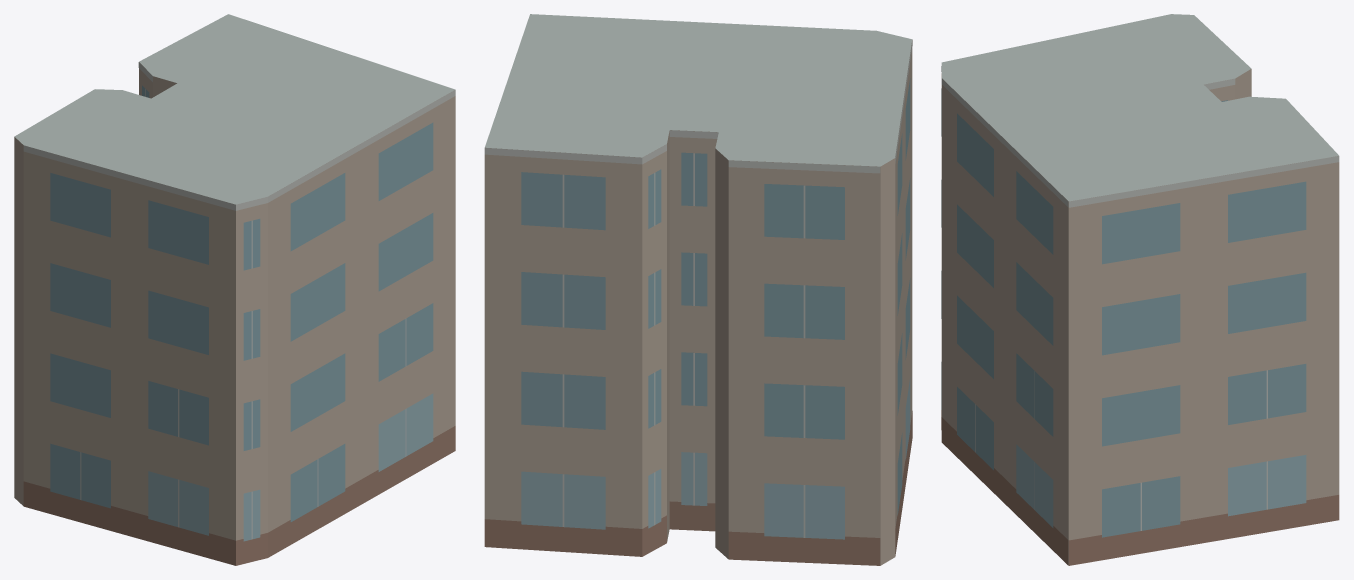
File: survey-upis-32746321.glb
3 renders of one model, left to right at view 1: azimuth 30°, elevation 25°; view 2: azimuth 150°, elevation 25°; view 3: azimuth 270°, elevation 25°, orthographic. The views are drawn at different scales.
Parts seen in each view (by area): view 1: survey-upis-32746321.tmp; view 2: survey-upis-32746321.tmp; view 3: survey-upis-32746321.tmp.
Part boxes in pixels (<box>): survey-upis-32746321.tmp: <box>14,14,455,565</box>; survey-upis-32746321.tmp: <box>484,14,912,565</box>; survey-upis-32746321.tmp: <box>941,14,1339,565</box>.
Bounding box in the file's own units: 15.58 × 14.1 × 13.97.
